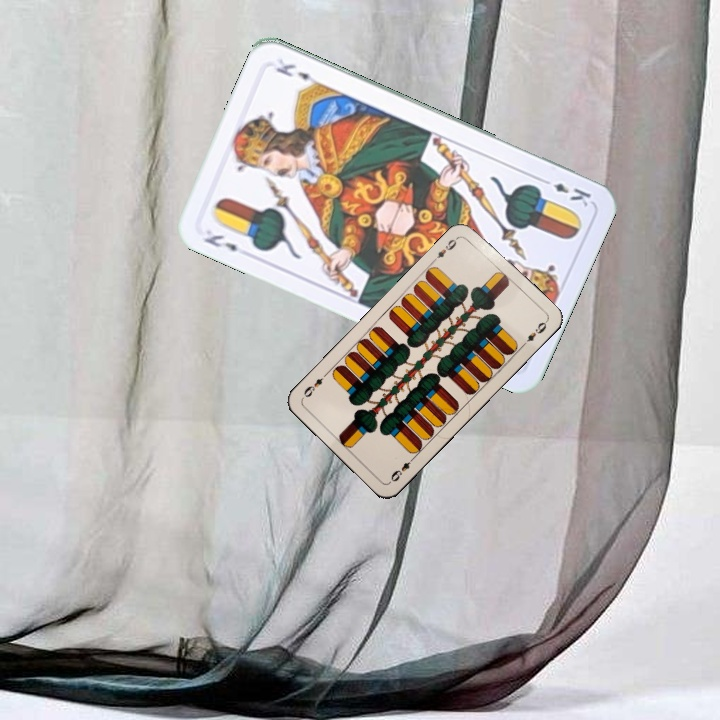E9: (429, 232, 462, 264), (386, 453, 418, 485)
EK: (537, 174, 594, 209), (200, 230, 240, 254)
